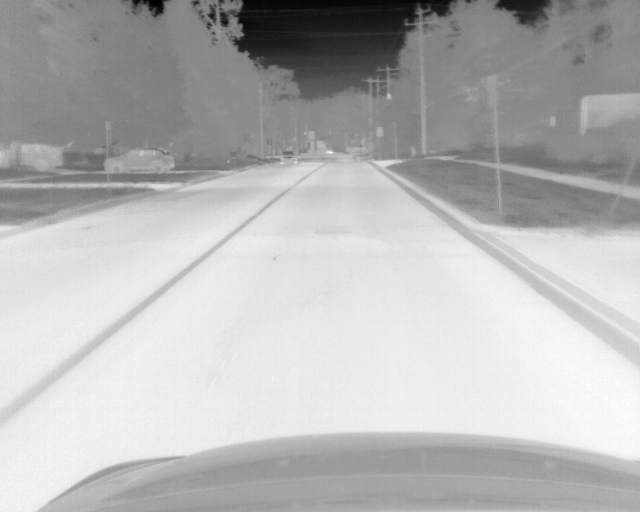car: (3, 140, 63, 171), (105, 147, 176, 173), (280, 151, 296, 165)
